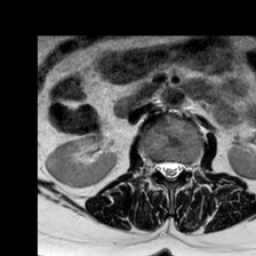CCS_normal: (165, 149, 173, 187)
LFS_normal: (183, 150, 191, 179)
LLS_normal: (173, 152, 183, 181)
RFS_normal: (148, 150, 157, 178)
RLS_normal: (156, 153, 165, 181)
